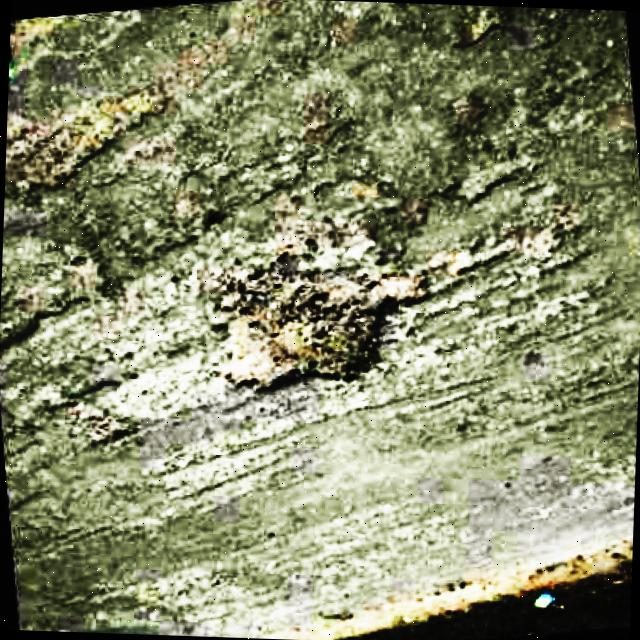pothole: (216, 275, 423, 401)
